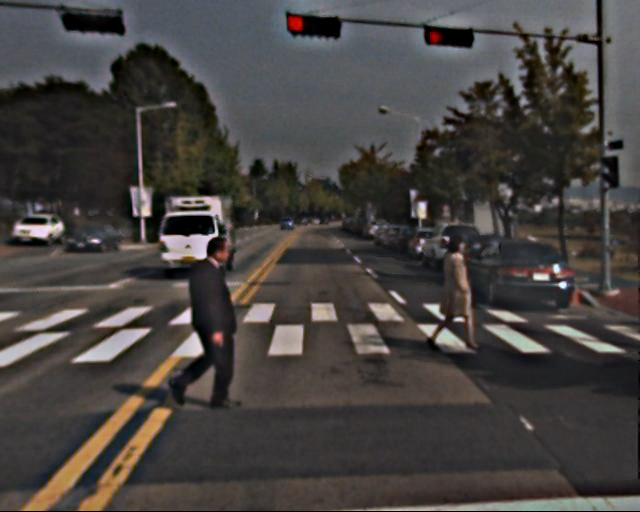person: (165, 233, 238, 411), (426, 234, 476, 356)
